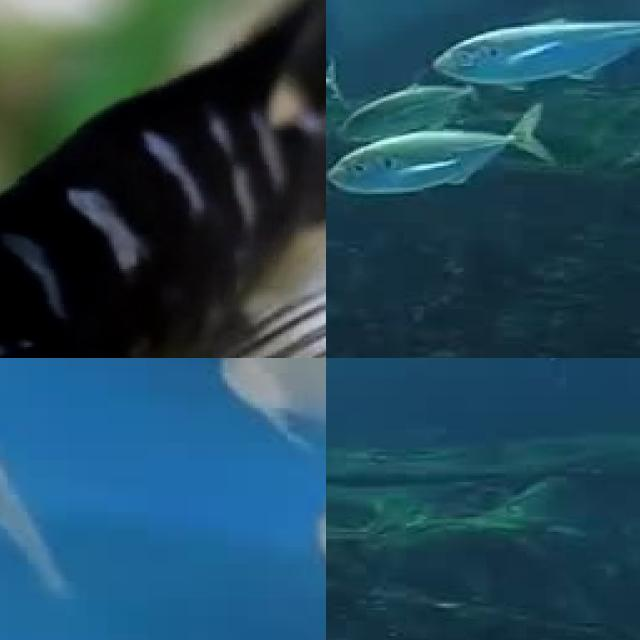fish: (0, 0, 326, 358), (326, 50, 356, 122)
